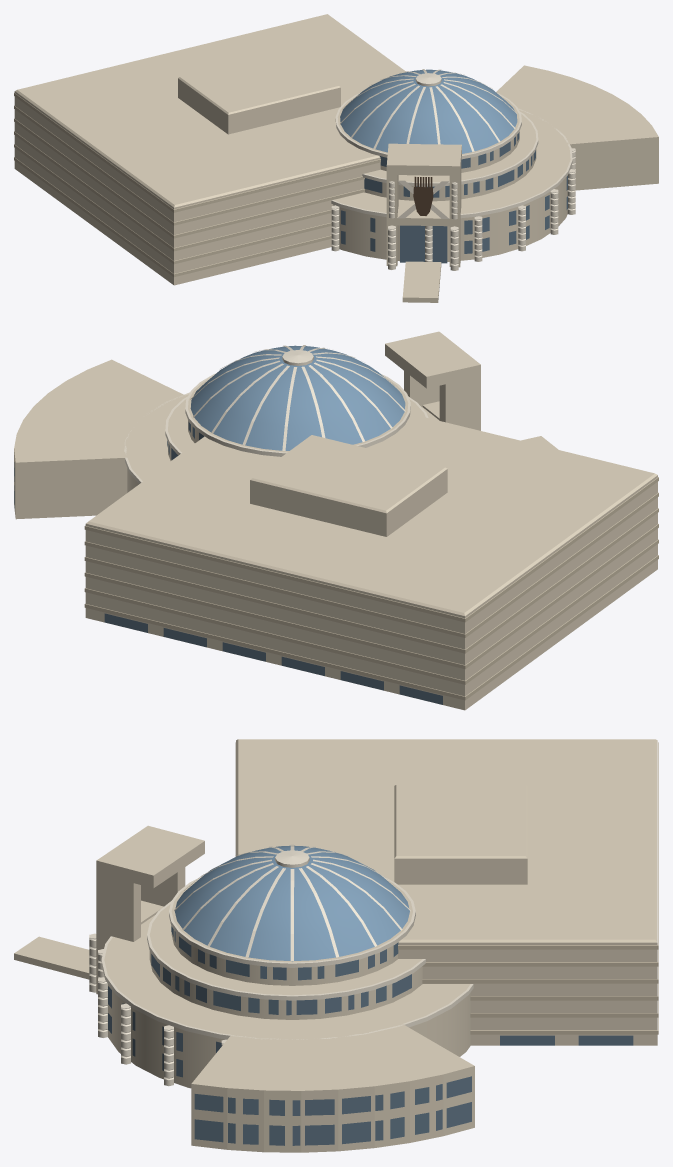
File: det-charles-h-wright-museum.glb
3 views of the same model, one above another, from view 1: azimuth 30°, elevation 25°; view 2: azimuth 150°, elevation 25°; view 3: azimuth 270°, elevation 25° (orthographic). The views are drawn at different scales.
Parts seen in each view (by area): view 1: Charles H. Wright Museum of African American History; view 2: Charles H. Wright Museum of African American History; view 3: Charles H. Wright Museum of African American History.
Boxes of the visible parts, left/top/right/bottom form: Charles H. Wright Museum of African American History: left=14, top=14, right=658, bottom=302; Charles H. Wright Museum of African American History: left=14, top=331, right=658, bottom=710; Charles H. Wright Museum of African American History: left=14, top=739, right=658, bottom=1152.
Bounding box in the file's own units: 93.55 × 23.3 × 82.27.
